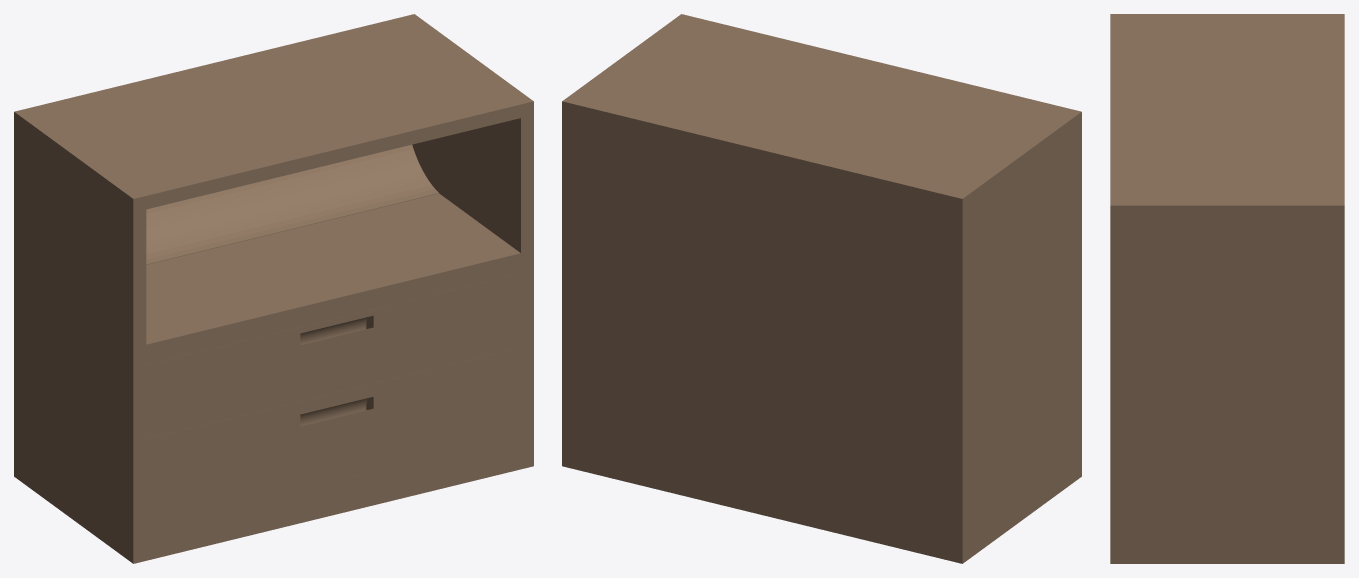
The model's file is nightStand.glb.
The picture shows the model from 3 angles, left to right: view 1: azimuth 30°, elevation 25°; view 2: azimuth 150°, elevation 25°; view 3: azimuth 270°, elevation 25°; orthographic projection.
Visible parts, largest first — view 1: Mesh_Mesh_head_geo.001_lambert2SG.001; view 2: Mesh_Mesh_head_geo.001_lambert2SG.001; view 3: Mesh_Mesh_head_geo.001_lambert2SG.001.
Boxes of the visible parts, x1,y1,x2,y2 form: Mesh_Mesh_head_geo.001_lambert2SG.001: (14,14,533,563); Mesh_Mesh_head_geo.001_lambert2SG.001: (562,14,1081,563); Mesh_Mesh_head_geo.001_lambert2SG.001: (1110,14,1344,563).
Size of the model in its own units: 62 by 54 by 32.
